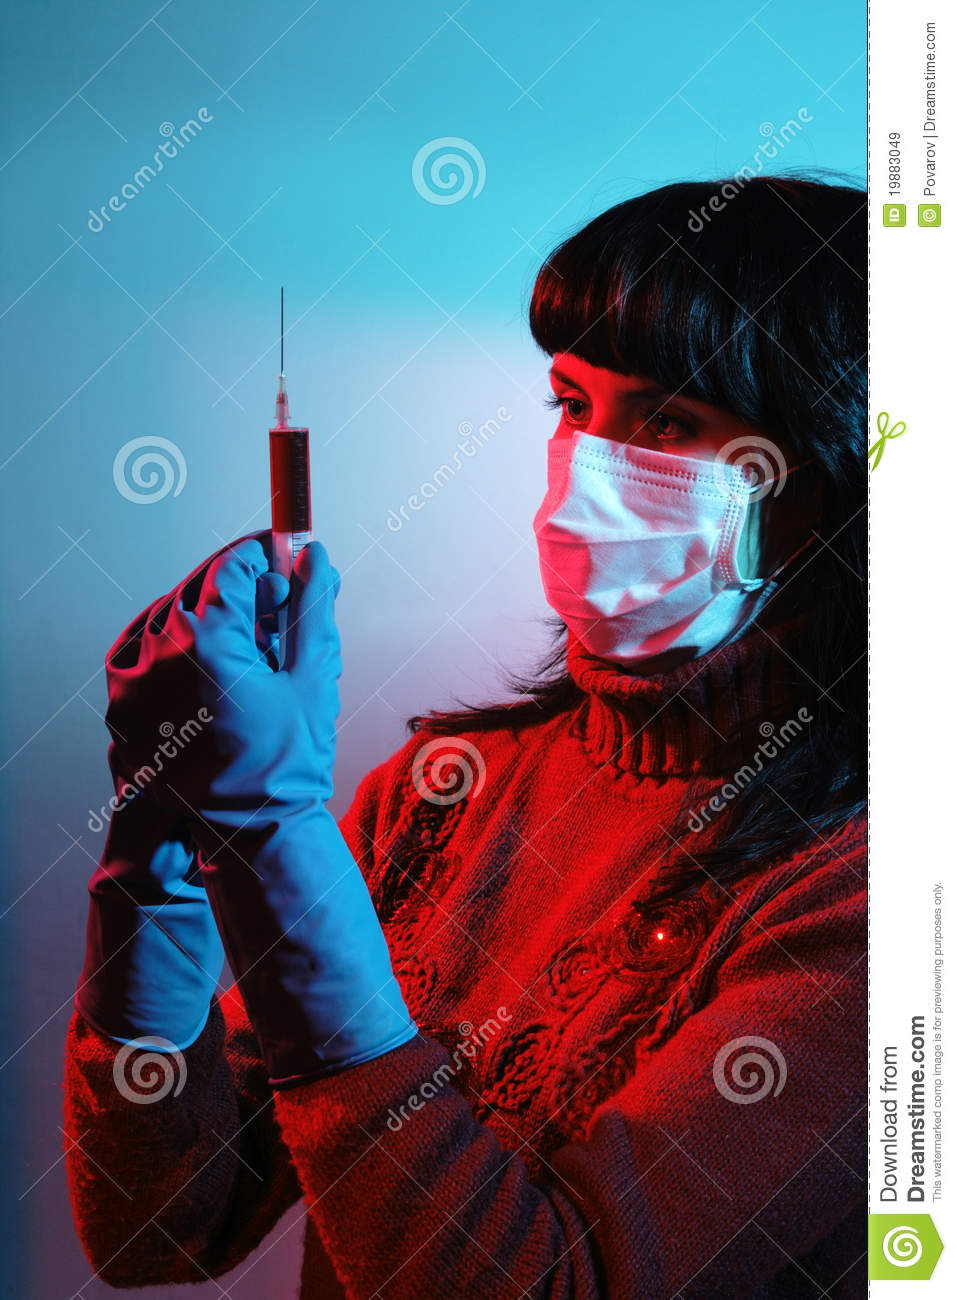mask: (526, 445, 782, 659)
